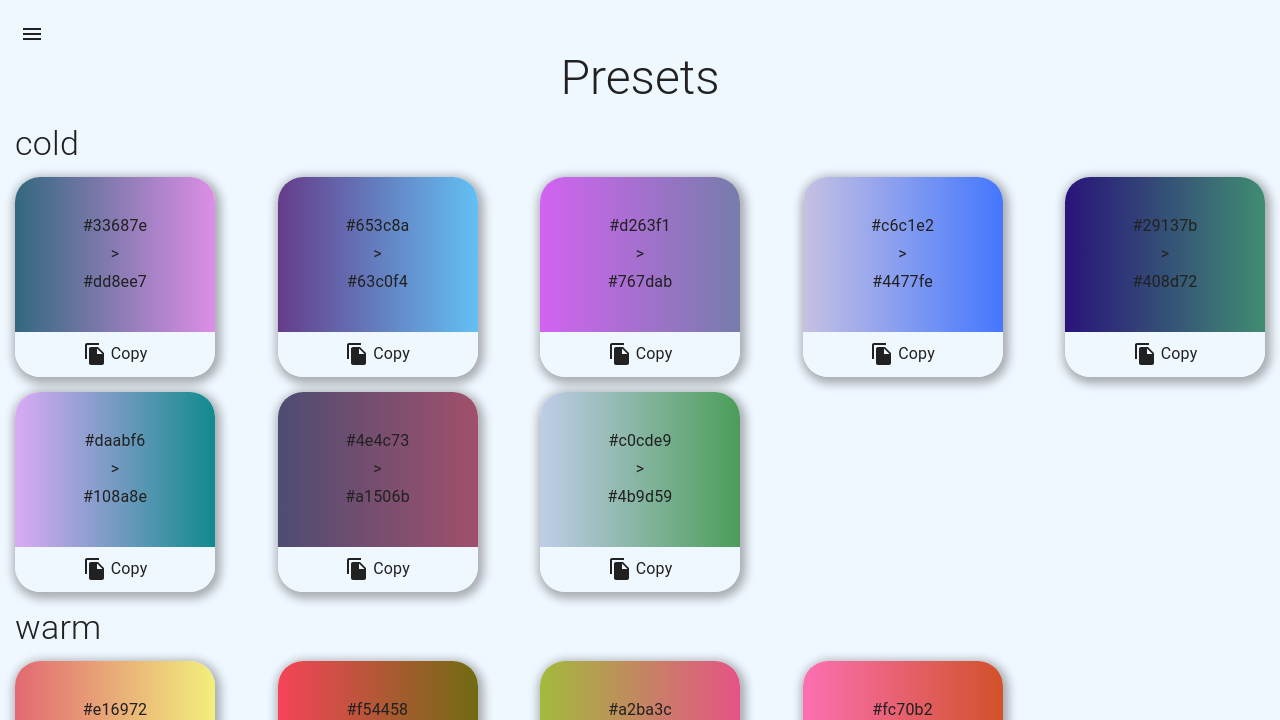
it: Presets page › A message shows after copying gradient
The image size is (1280, 720).
Step 1. Click the text "Copy" below "#dd8ee7" → (129, 354), box [111, 340, 147, 368]
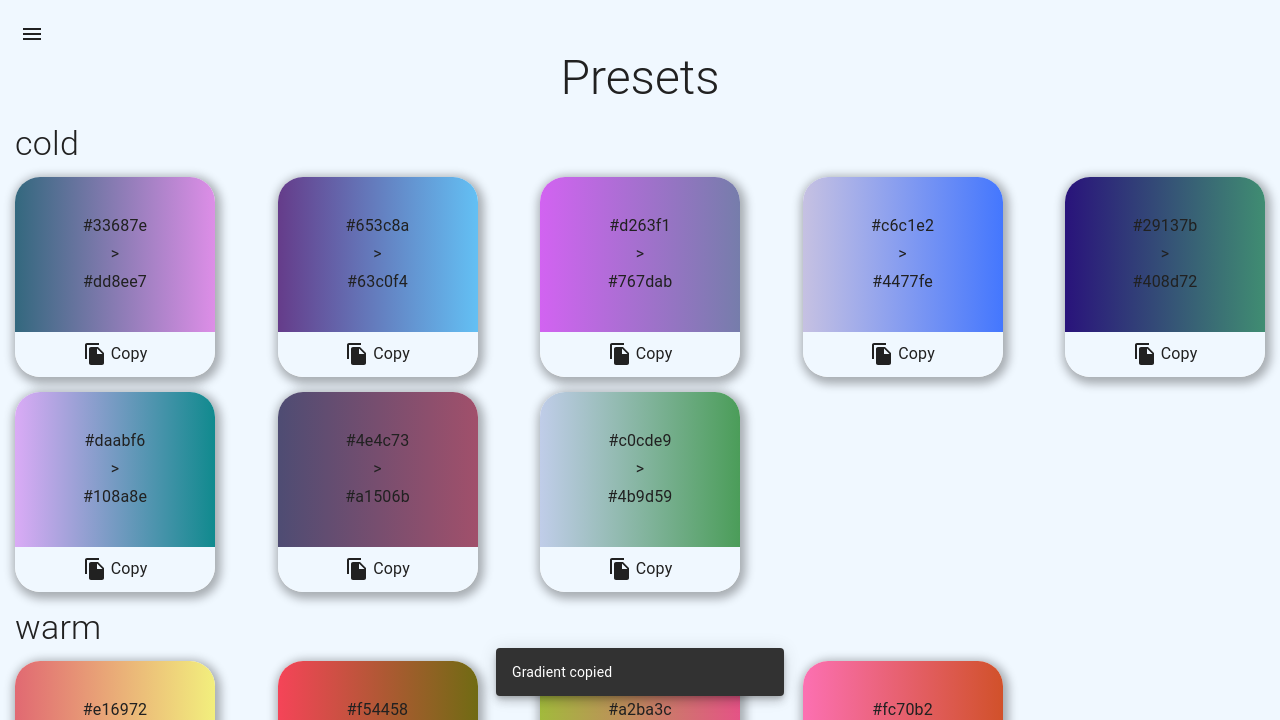
Expected: the text "Gradient copied" is shown, [512, 664, 612, 680]
